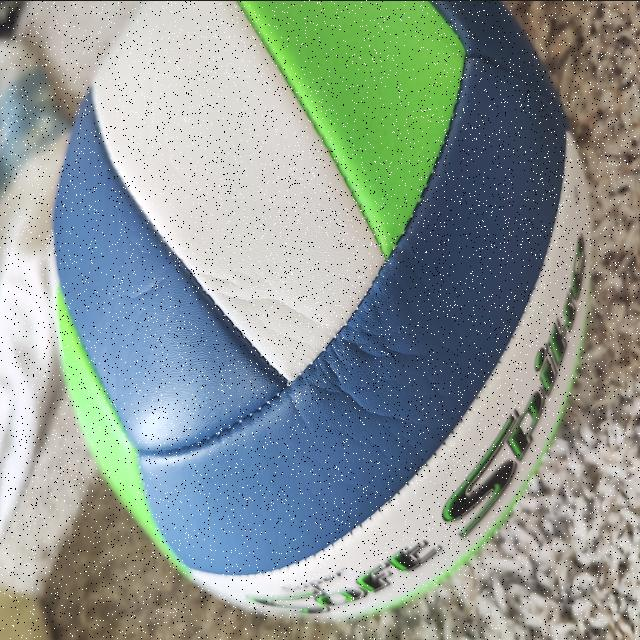ball: (58, 0, 588, 620)
